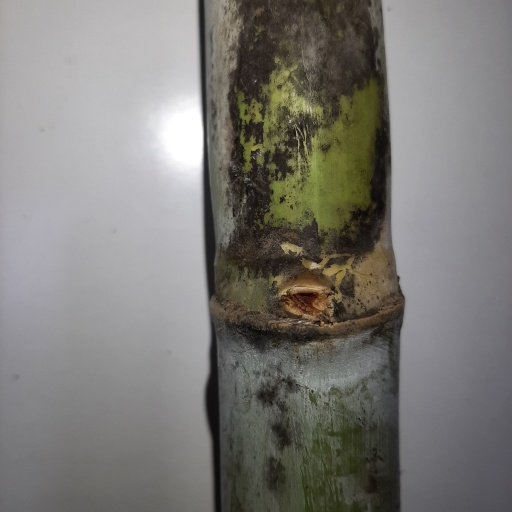Damage_Bud: (281, 280, 332, 325)
